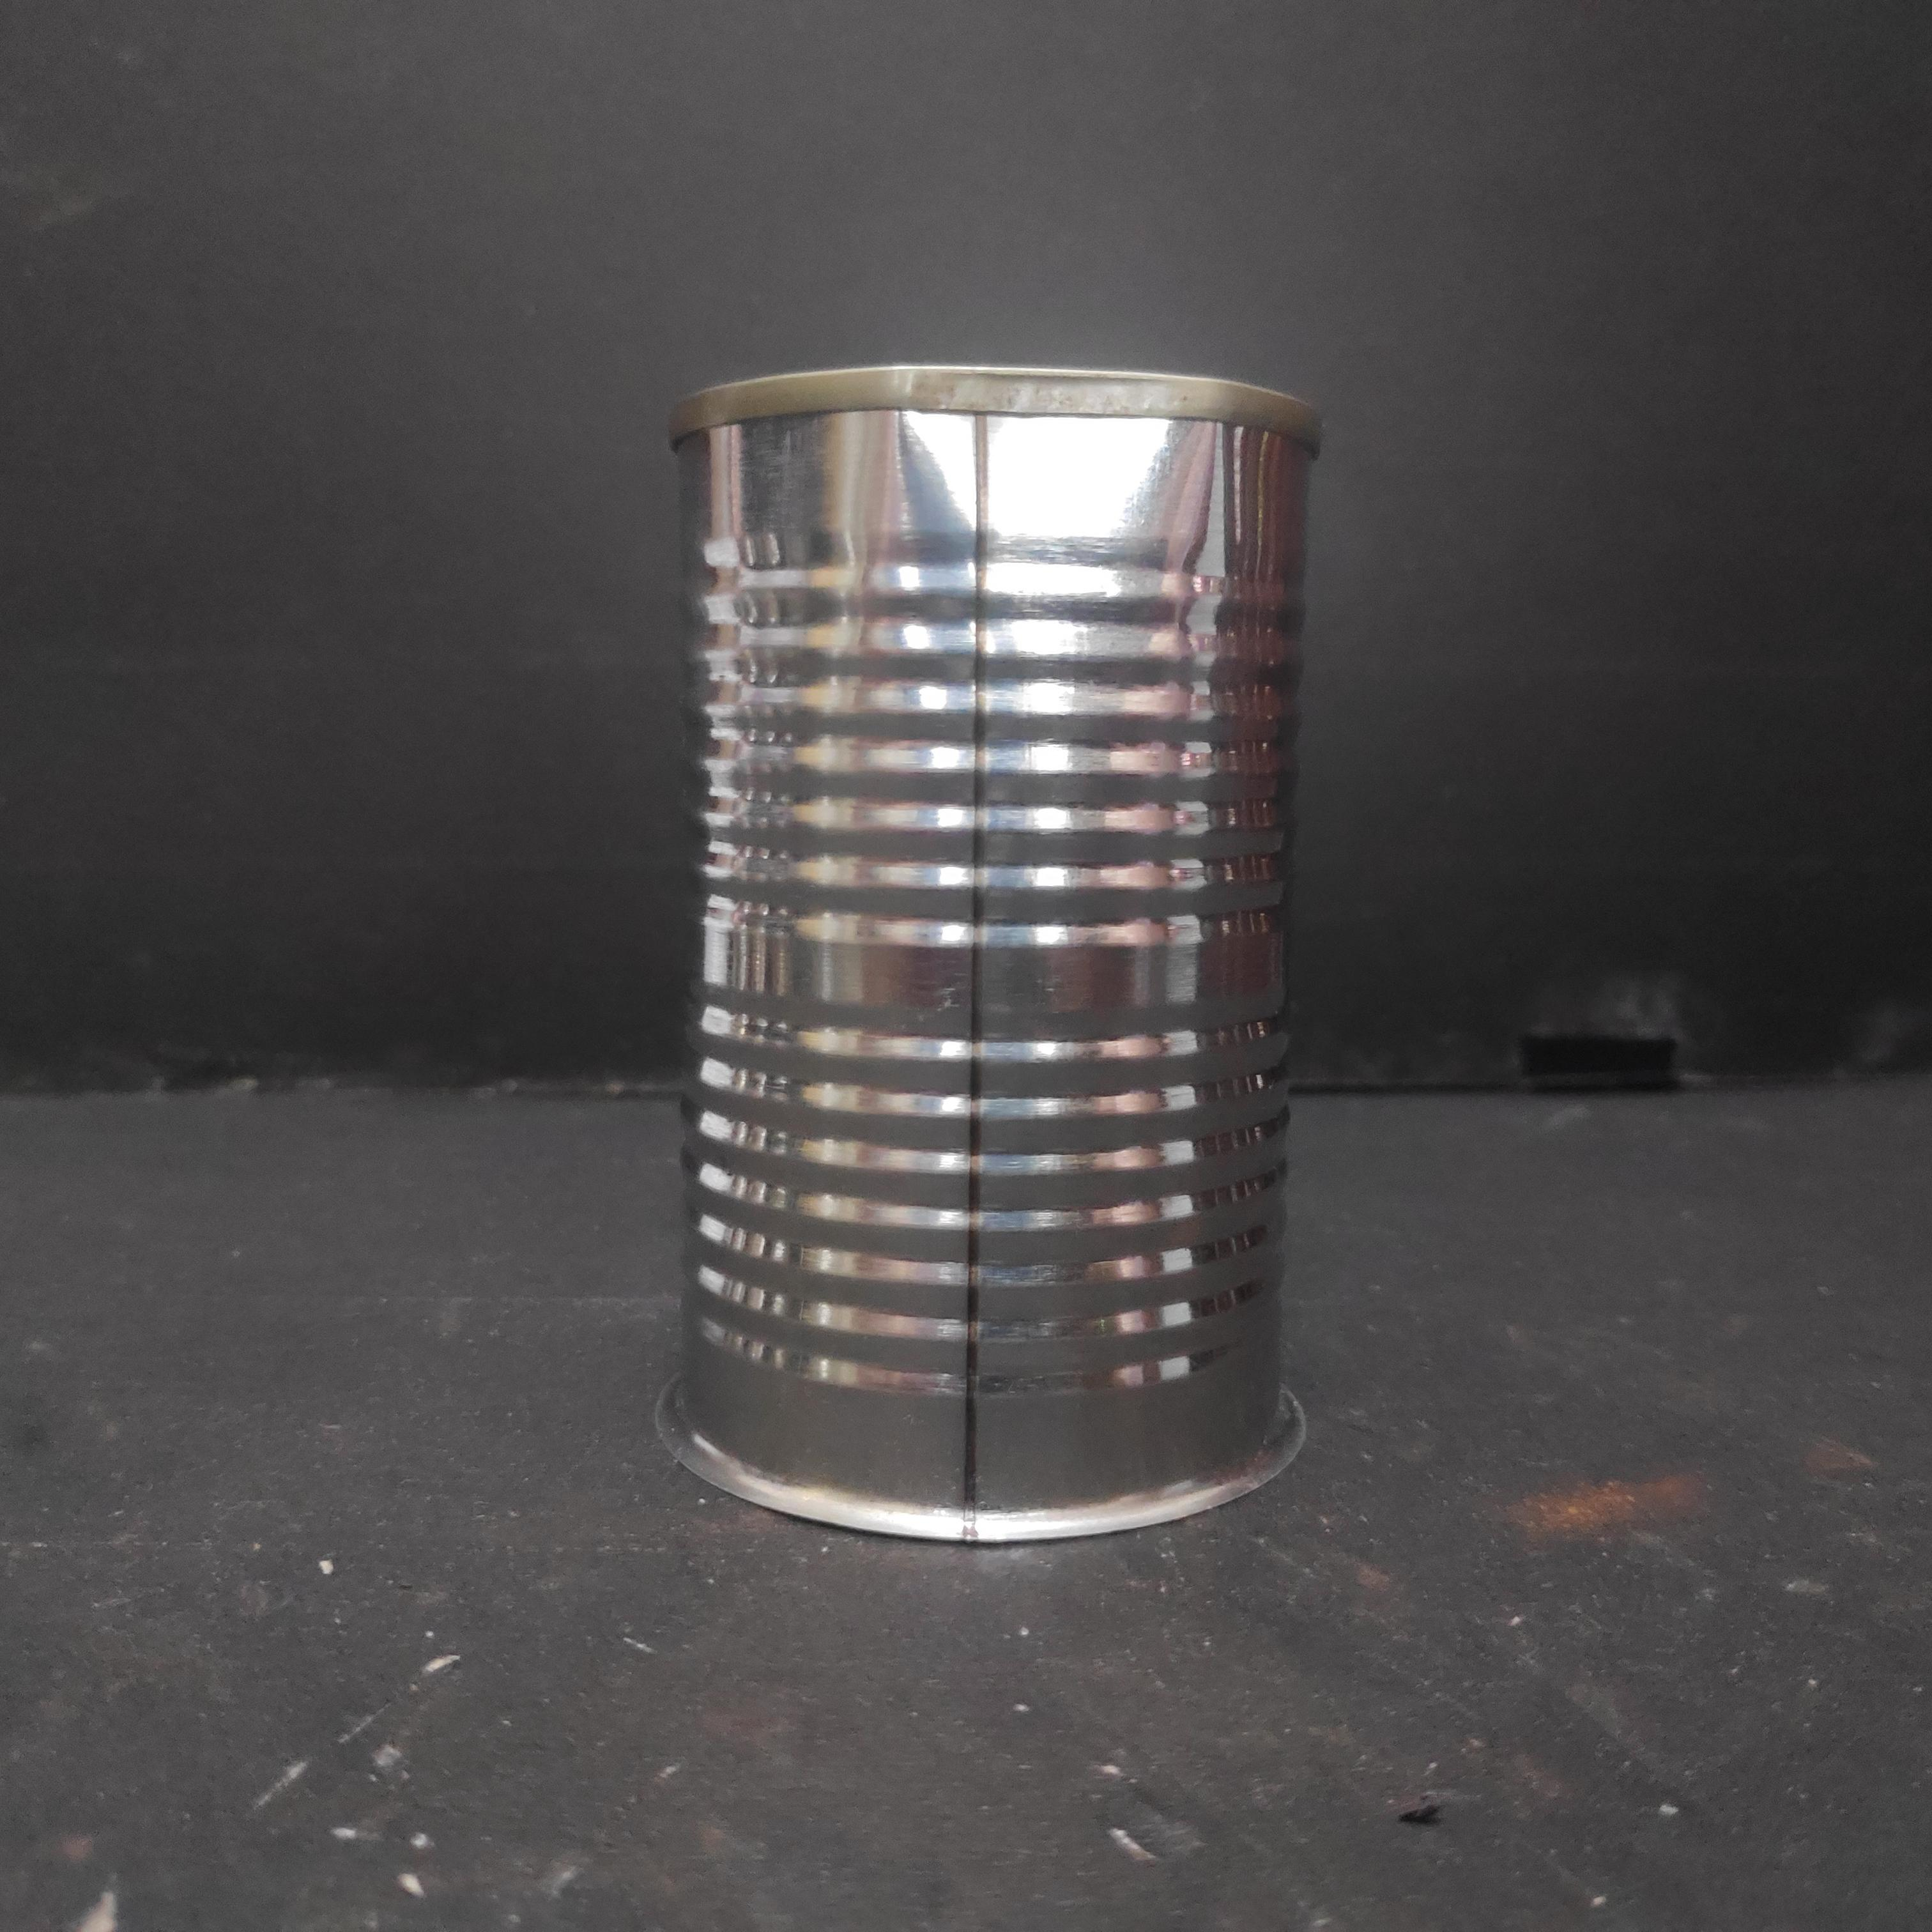Minor Defect: (656, 358, 1339, 1550)
